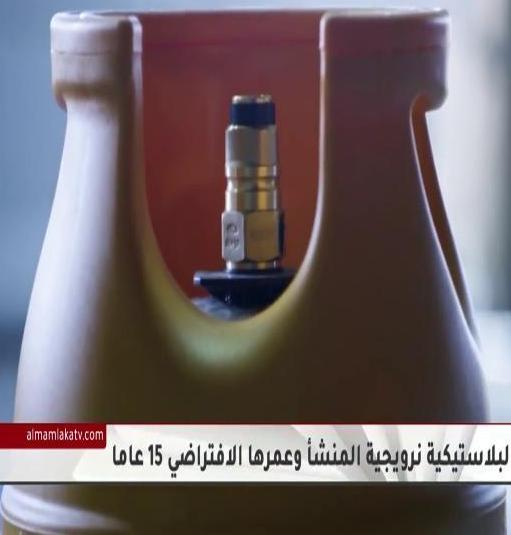cylinder: (1, 1, 511, 535)
